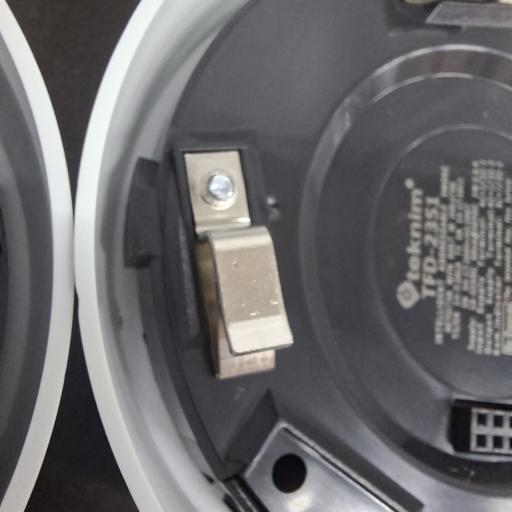yayli: (176, 146, 294, 375)
